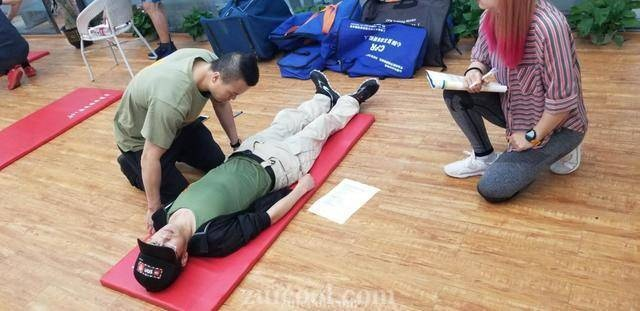falling: (124, 61, 389, 282)
